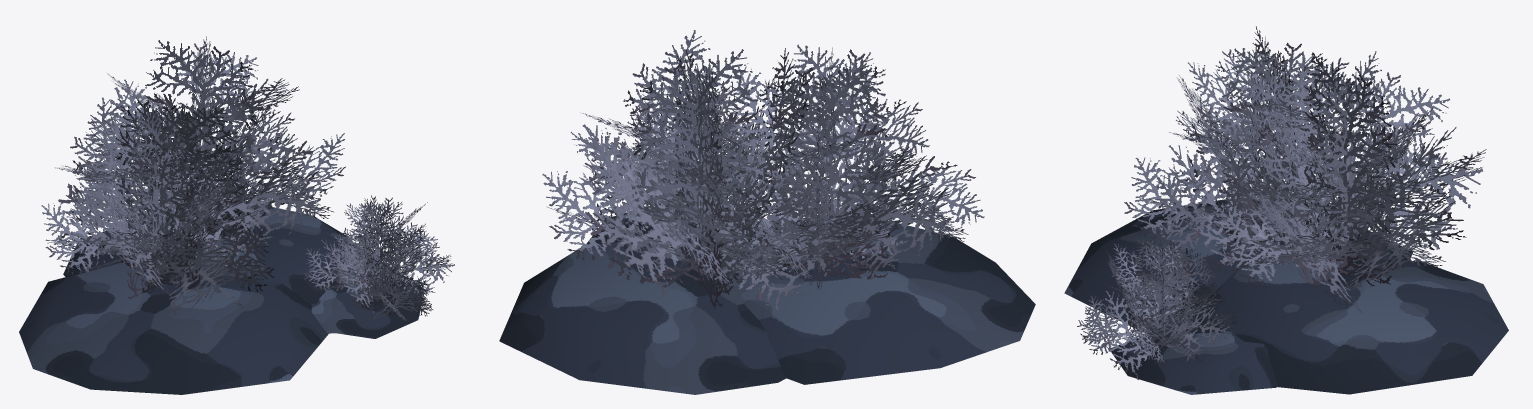
File: Ivory Bush Coral 5_preview_3DS_simplified.glb
3 views of the same model, side by side, from view 1: azimuth 30°, elevation 25°; view 2: azimuth 150°, elevation 25°; view 3: azimuth 270°, elevation 25° (orthographic). The views are drawn at different scales.
Visible parts, largest first — view 1: Marine Park Empire model; view 2: Marine Park Empire model; view 3: Marine Park Empire model.
Boxes of the visible parts, x1,y1,x2,y2 form: Marine Park Empire model: (19,36,454,394); Marine Park Empire model: (499,30,1035,394); Marine Park Empire model: (1064,26,1508,394).
Bounding box in the file's own units: 173 × 99.91 × 161.
Materials: 2 (2 with a texture image).
